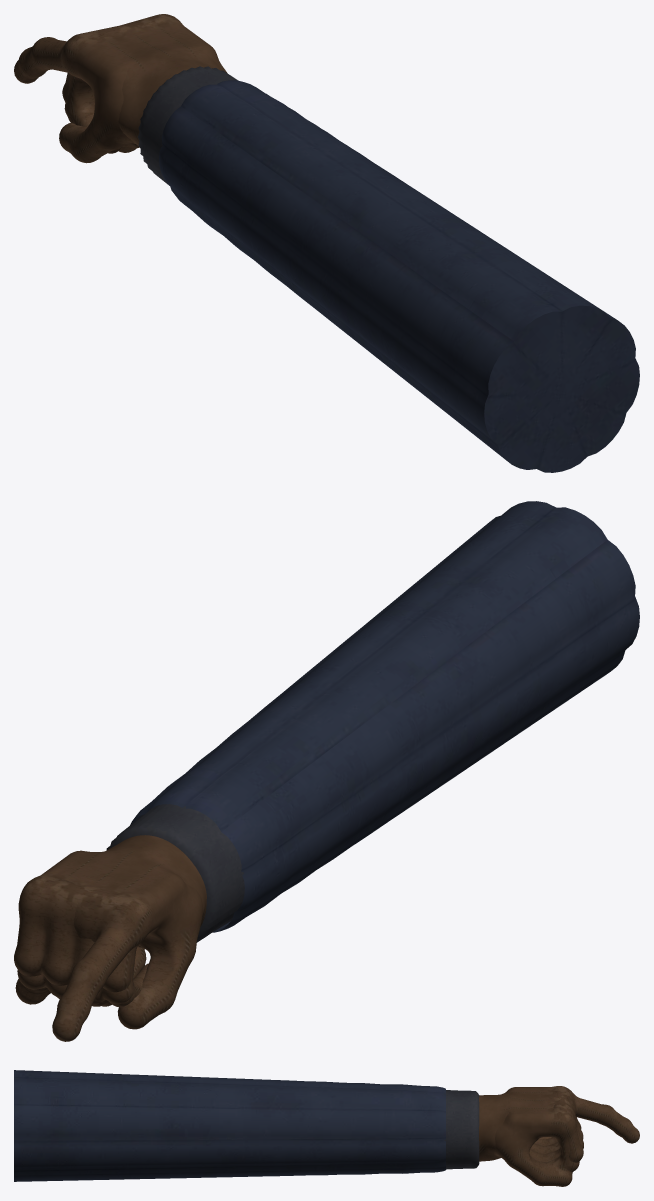
Rendered from arms.glb.
3 views of the same model, one above another, from view 1: azimuth 30°, elevation 25°; view 2: azimuth 150°, elevation 25°; view 3: azimuth 270°, elevation 25° (orthographic). The views are drawn at different scales.
Parts seen in each view (by area): view 1: armL_body, armR_body, armL_open_body; view 2: armL_body, armR_body, armL_open_body; view 3: armL_body, armR_body, armL_open_body.
Boxes of the visible parts, x1,y1,x2,y2 form: armL_body: (64,14,639,472); armR_body: (14,25,222,163); armL_open_body: (62,14,227,145); armL_body: (15,501,639,1004); armR_body: (41,835,202,1041); armL_open_body: (14,835,206,1007); armL_body: (14,1070,579,1186); armR_body: (479,1086,639,1162); armL_open_body: (479,1090,583,1186).
Size of the model in its own units: 0.1182 by 0.1175 by 0.6592.
2 materials, 2 textured.
